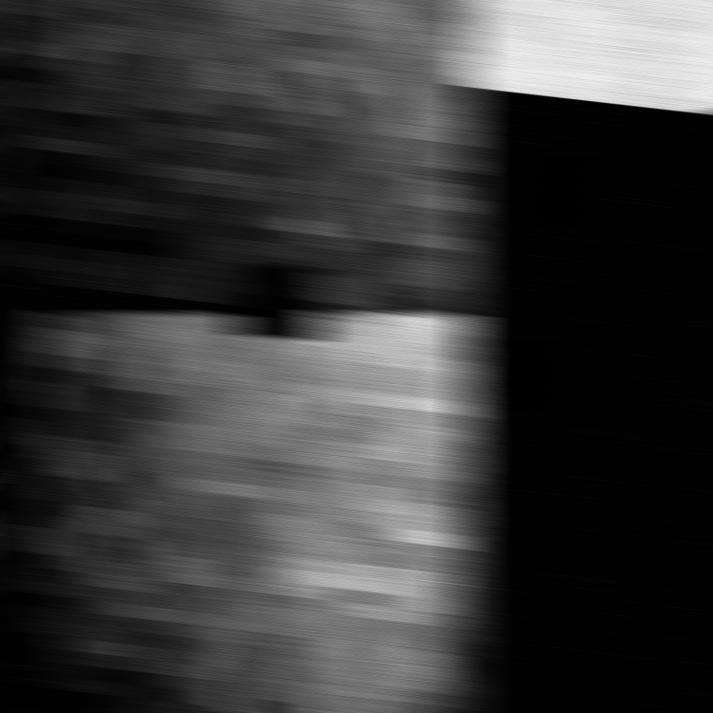AirbagV2: (0, 312, 479, 713), (0, 0, 479, 314), (460, 0, 713, 107)
